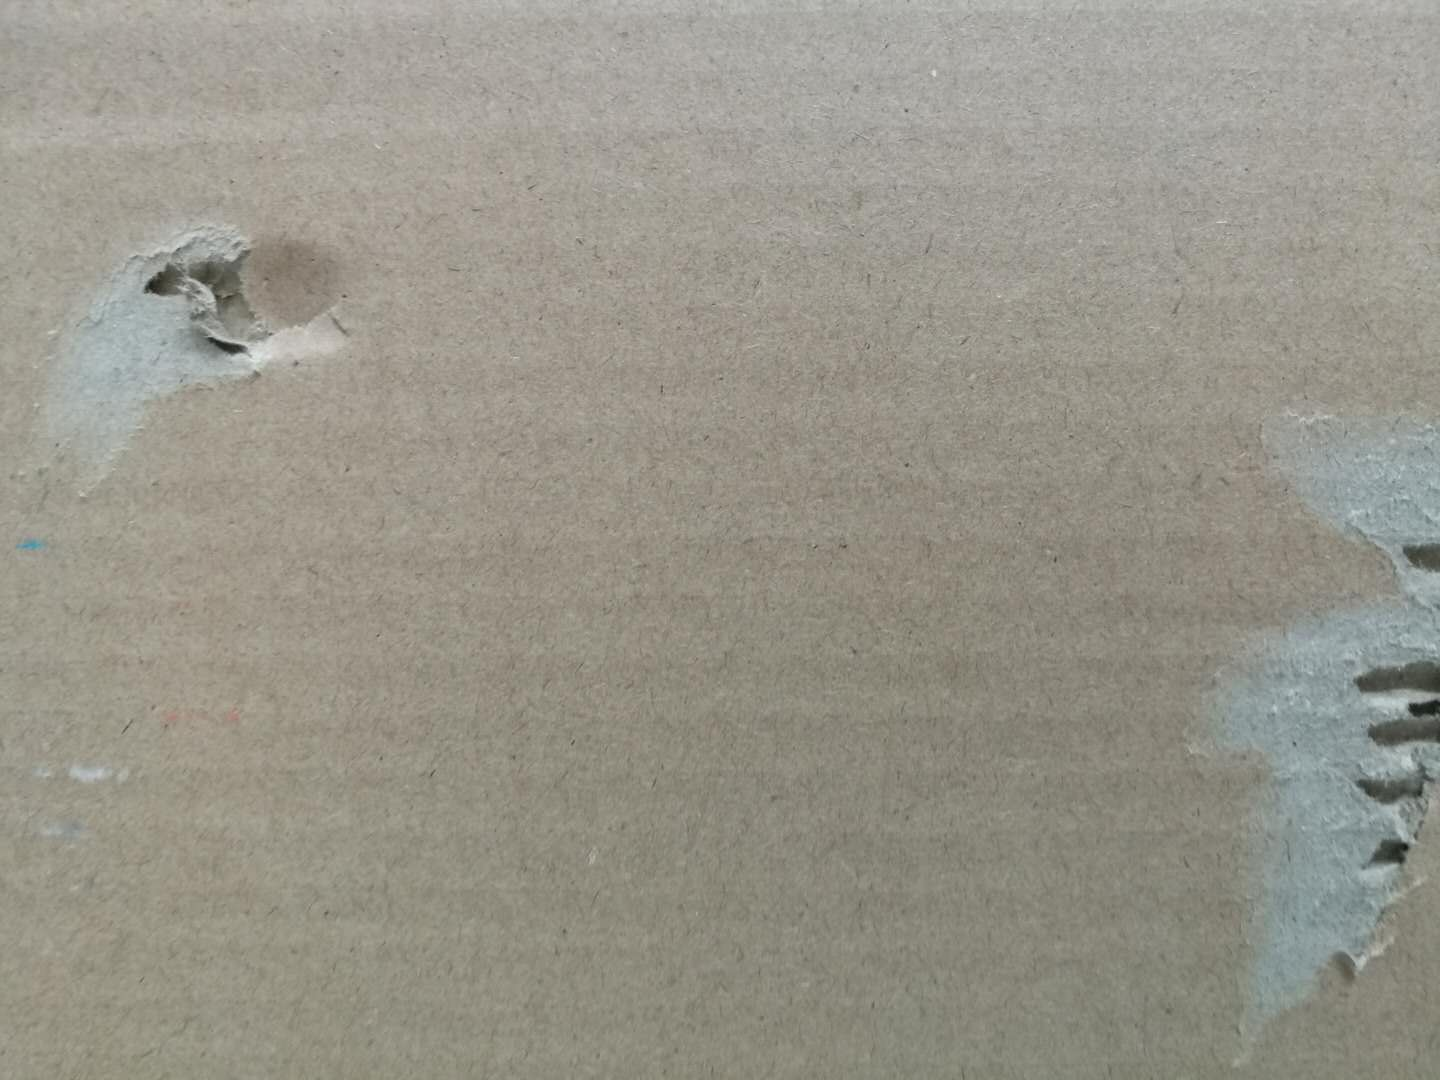defect: (1155, 376, 1440, 1068), (22, 189, 382, 513)
